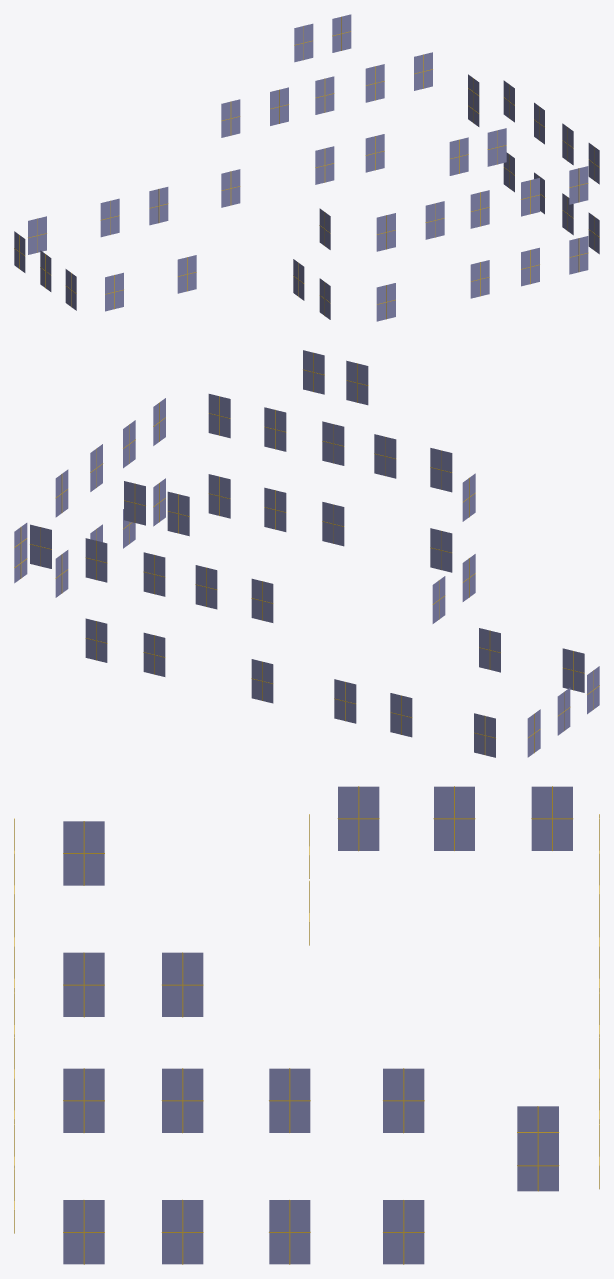
File: Windows_all_001.fbx
3 renders of one model, top to bottom at view 1: azimuth 30°, elevation 25°; view 2: azimuth 150°, elevation 25°; view 3: azimuth 270°, elevation 25°, orthographic. The views are drawn at different scales.
Visible parts, largest first — view 1: window_03, window_04, window_07, window_28, window_38, window_02, window_05, window_30, window_32, window_35, window_37, window_06 (+25 smaller); view 2: window_03, window_10, window_37, window_02, window_08, window_28, window_31, window_34, window_00, window_01, window_07, window_27 (+22 smaller); view 3: window_40, window_12, window_16, window_21, window_22, window_11, window_13, window_18, window_19, window_20, window_26, window_23 (+3 smaller).
Part boxes in pixels (<box>): window_03: <box>425,201,444,239</box>; window_04: <box>376,213,395,251</box>; window_07: <box>569,236,588,274</box>; window_28: <box>365,64,384,102</box>; window_38: <box>100,198,119,237</box>; window_02: <box>470,190,489,228</box>; window_05: <box>487,128,506,166</box>; window_30: <box>315,146,334,184</box>; window_32: <box>221,169,240,207</box>; window_35: <box>294,23,313,62</box>; window_37: <box>149,187,168,225</box>; window_06: <box>449,137,468,175</box>; window_03: <box>374,434,396,478</box>; window_10: <box>430,528,452,572</box>; window_37: <box>334,679,356,723</box>; window_02: <box>322,421,344,465</box>; window_08: <box>264,487,286,531</box>; window_28: <box>85,538,107,582</box>; window_31: <box>143,552,165,596</box>; window_34: <box>195,565,217,609</box>; window_00: <box>208,394,230,438</box>; window_01: <box>264,407,286,451</box>; window_07: <box>208,474,230,518</box>; window_27: <box>85,618,107,662</box>; window_40: <box>517,1106,559,1191</box>; window_12: <box>63,952,104,1017</box>; window_16: <box>337,786,379,851</box>; window_21: <box>161,1199,203,1264</box>; window_22: <box>161,1068,203,1133</box>; window_11: <box>63,821,104,885</box>; window_13: <box>162,952,203,1017</box>; window_18: <box>531,786,573,850</box>; window_19: <box>63,1200,104,1264</box>; window_20: <box>63,1068,104,1132</box>; window_26: <box>383,1068,424,1133</box>; window_23: <box>269,1200,310,1264</box>.
Bounding box in the file's own units: 1993 × 686 × 1192.
